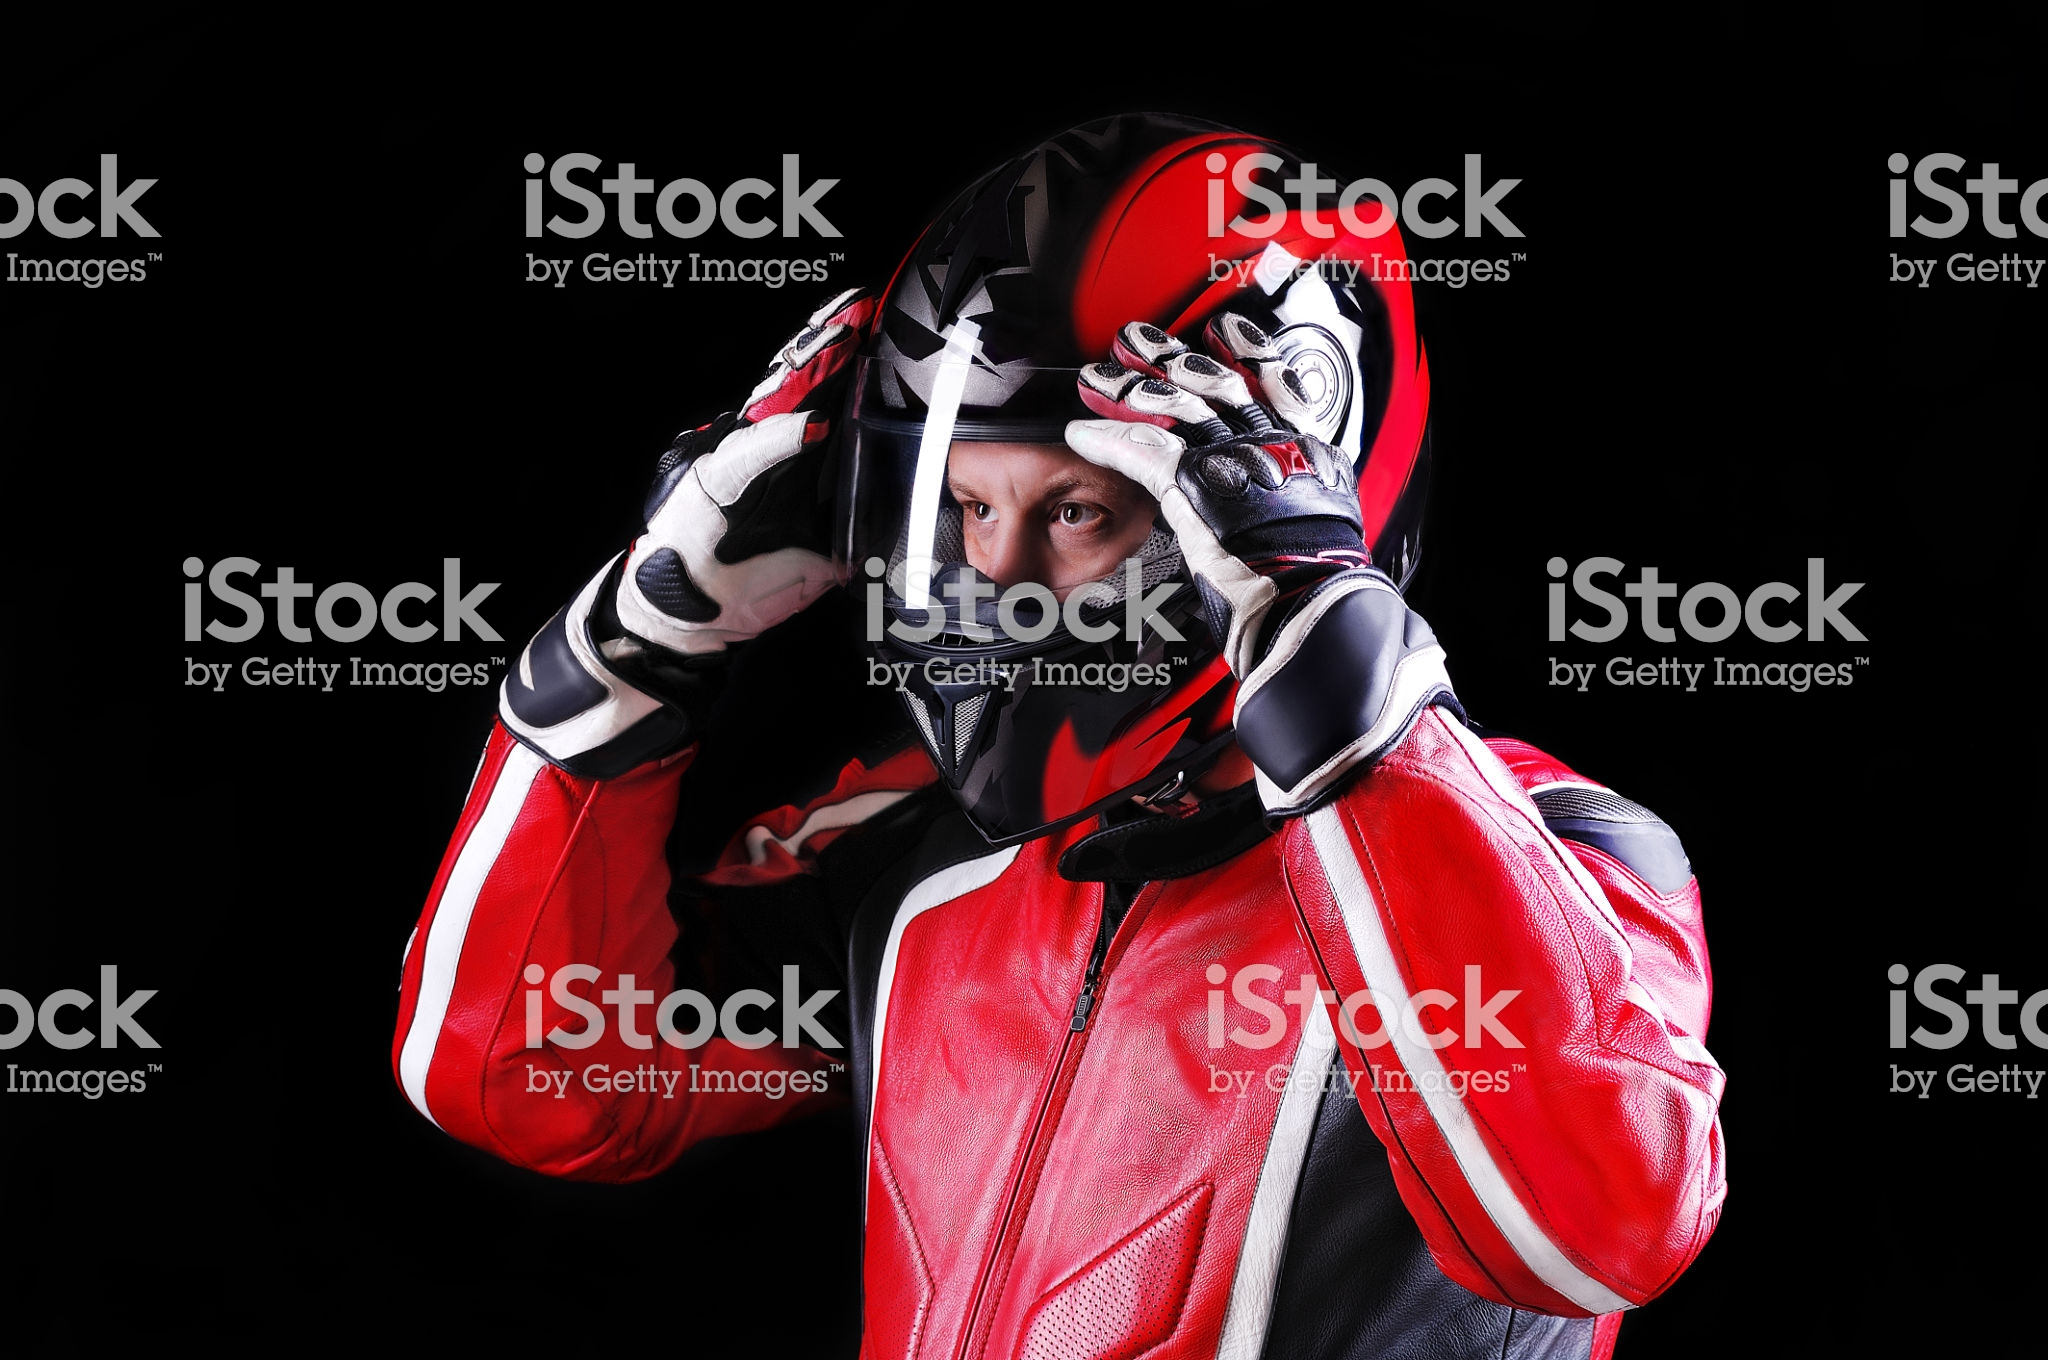helmet: (853, 131, 1487, 763)
